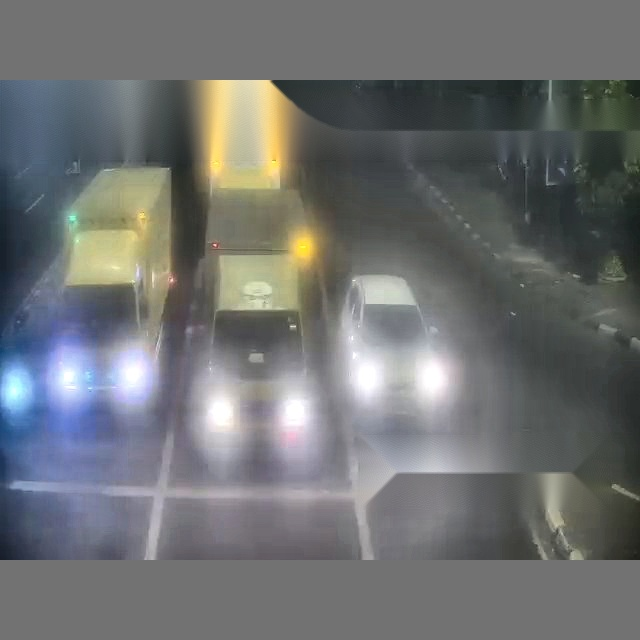Mobil: (340, 274, 444, 412)
Truk: (195, 78, 297, 193)
